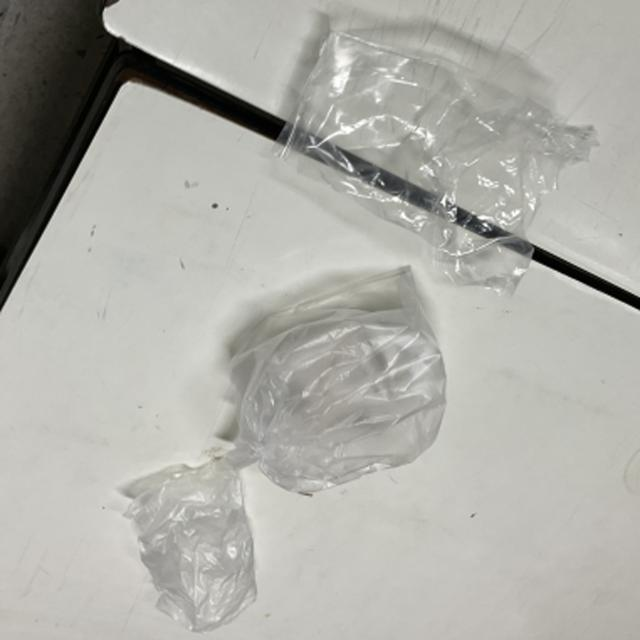Single-layer Plastic: (281, 24, 596, 293), (231, 266, 446, 492), (125, 459, 256, 631)
